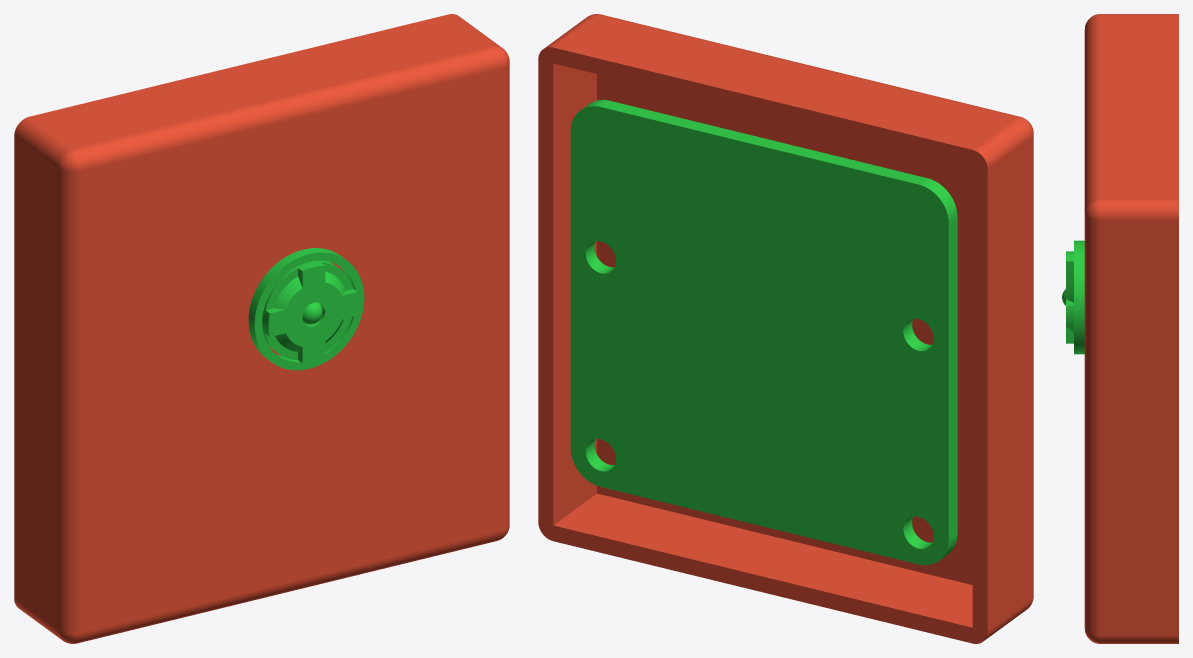
Rendered from rpi_camera.dae.
3 views of the same model, side by side, from view 1: azimuth 30°, elevation 25°; view 2: azimuth 150°, elevation 25°; view 3: azimuth 270°, elevation 25° (orthographic). The views are drawn at different scales.
Visible parts, largest first — view 1: camera; view 2: camera; view 3: camera.
Boxes of the visible parts, x1,y1,x2,y2 form: camera: (14, 14, 509, 643); camera: (538, 14, 1033, 643); camera: (1062, 14, 1178, 643).
Size of the model in its own units: 0.0832 by 0.0209 by 0.0873.
